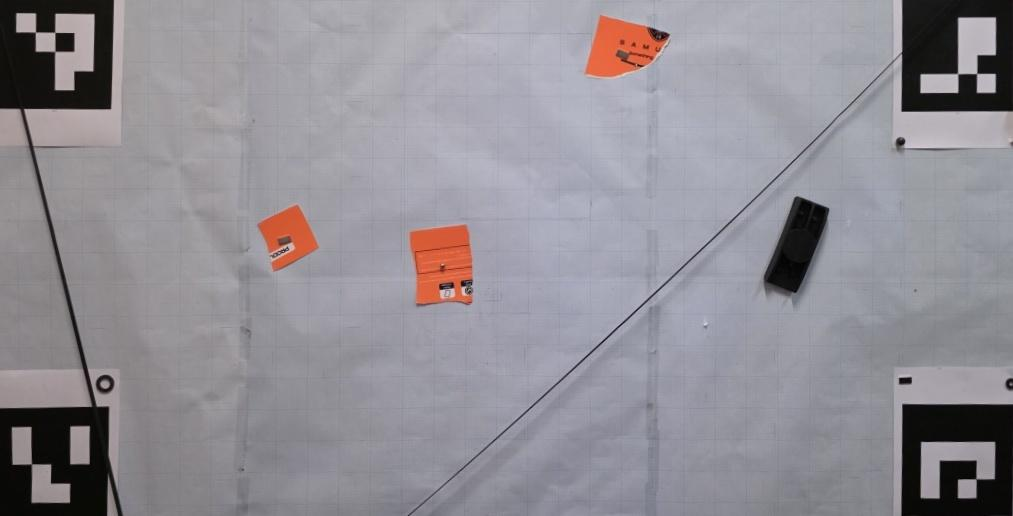obstacle: (764, 195, 829, 294), (585, 14, 671, 80), (408, 224, 473, 305), (258, 205, 318, 272)
